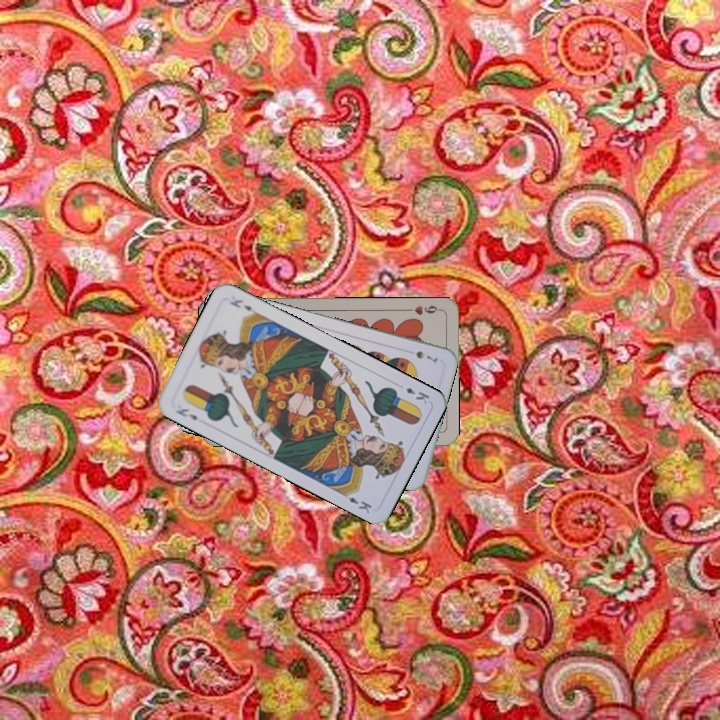EK: (401, 383, 432, 407), (172, 404, 200, 423)
H9: (402, 302, 442, 318)
S7: (412, 347, 440, 364)
